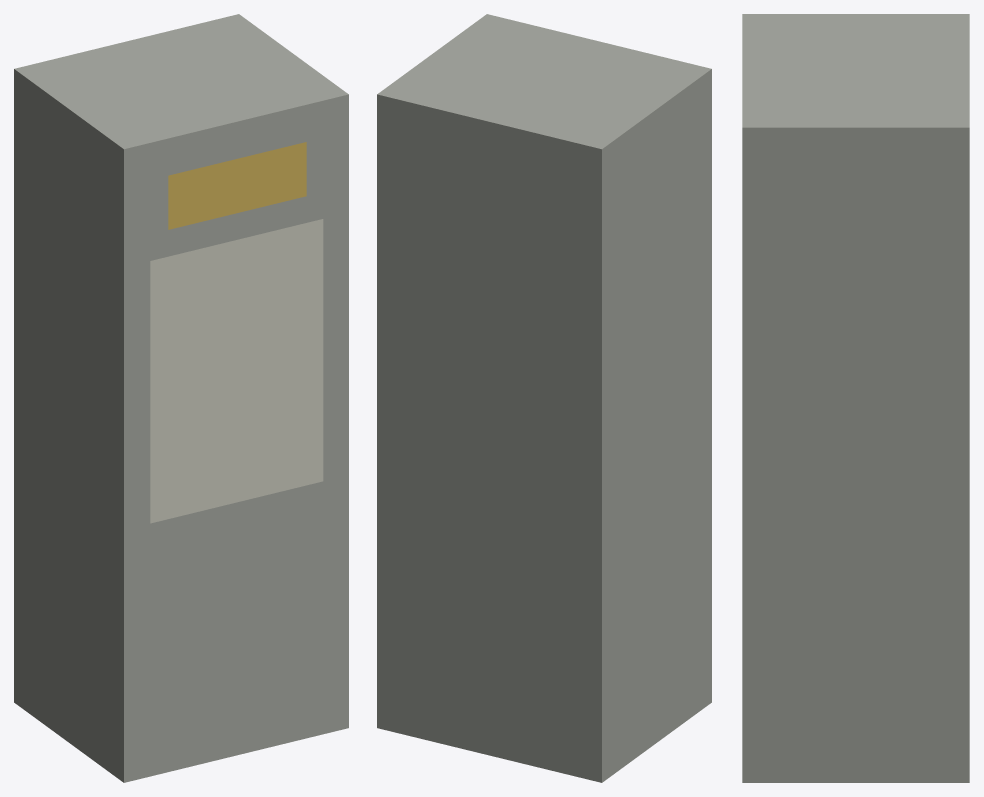
Rendered from mile_stone.glb.
The picture shows the model from 3 angles, left to right: view 1: azimuth 30°, elevation 25°; view 2: azimuth 150°, elevation 25°; view 3: azimuth 270°, elevation 25°; orthographic projection. The views are drawn at different scales.
Bounding box in the file's own units: 0.26 × 0.7 × 0.222.
